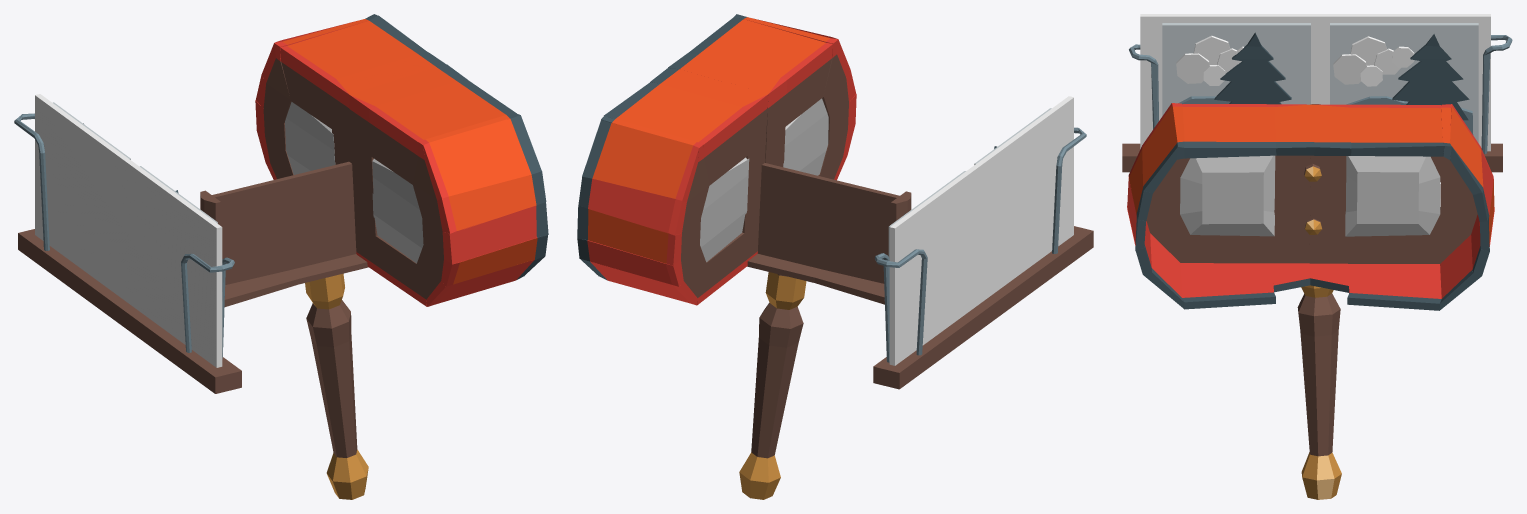
3 views of the same model, side by side, from view 1: azimuth 30°, elevation 25°; view 2: azimuth 150°, elevation 25°; view 3: azimuth 270°, elevation 25° (orthographic). The views are drawn at different scales.
Parts seen in each view (by area): view 1: group_1549805058; view 2: group_1549805058; view 3: group_1549805058.
Part boxes in pixels (left/top/right/bottom): group_1549805058: left=14, top=14, right=548, bottom=499; group_1549805058: left=577, top=14, right=1093, bottom=499; group_1549805058: left=1122, top=14, right=1512, bottom=499.
Bounding box in the file's own units: 64.49 × 73.43 × 65.64.
